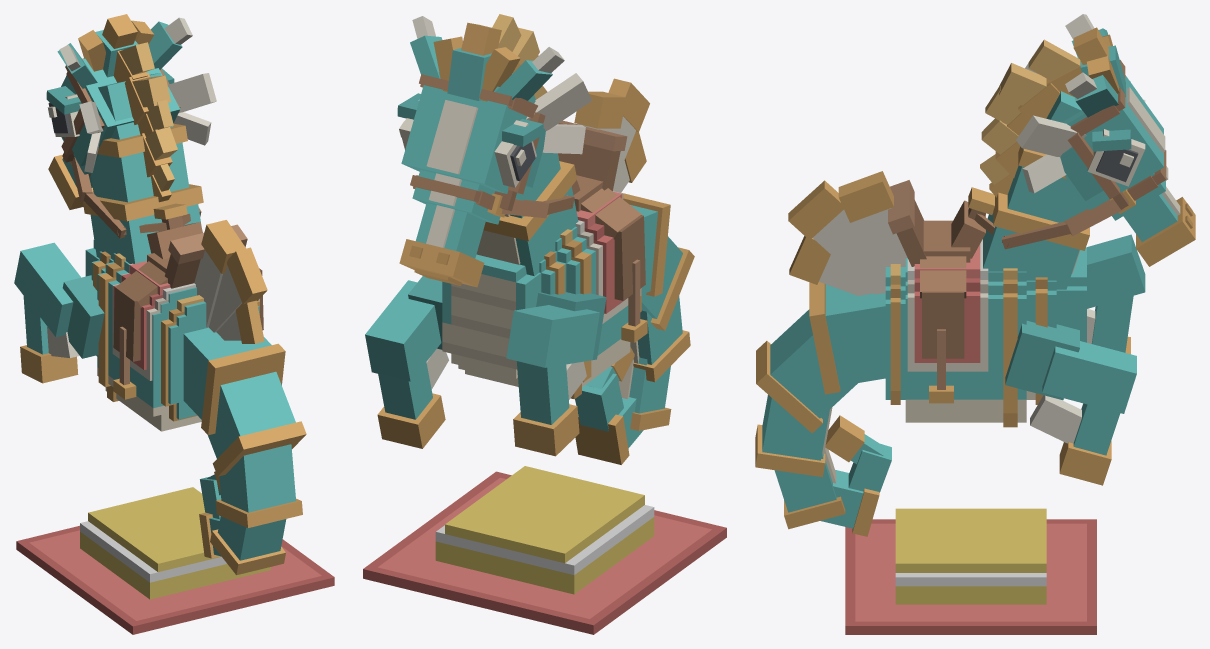
Rendered from SeahorseRocker3.glb.
3 views of the same model, side by side, from view 1: azimuth 30°, elevation 25°; view 2: azimuth 150°, elevation 25°; view 3: azimuth 270°, elevation 25° (orthographic). The views are drawn at different scales.
Parts seen in each view (by area): view 1: Stand, Body, Head, Neck, LegL, Fan, T2, T1, T3, T4, T5, T6; view 2: Stand, Head, Body, LegL, LegR, Neck, Fan, T3, T1, T4, T5, T2 (+2 smaller); view 3: Stand, Body, Head, Neck, LegR, Fan, T1, T2, LegL, T3, T4, T5 (+2 smaller).
Part boxes in pixels (x1,y1,x2,y2): Stand: (16, 487, 334, 634); Body: (85, 203, 263, 431); Head: (46, 14, 216, 209); Neck: (71, 73, 203, 263); LegL: (14, 242, 104, 383); Fan: (194, 220, 267, 343); T2: (208, 371, 306, 476); T1: (183, 327, 285, 435); T3: (215, 444, 302, 527); T4: (210, 516, 286, 575); T5: (199, 512, 221, 558); T6: (200, 476, 221, 519); Stand: (363, 466, 726, 634); Head: (397, 14, 591, 287); Body: (442, 120, 647, 399); LegL: (506, 292, 606, 456); LegR: (365, 276, 448, 448); Neck: (476, 55, 578, 275); Fan: (574, 78, 649, 192); T3: (630, 296, 690, 382); T1: (621, 193, 670, 296); T4: (618, 357, 671, 430); T5: (575, 397, 643, 464); T2: (641, 236, 694, 330); Stand: (845, 508, 1096, 634); Body: (885, 180, 1086, 427); Head: (999, 14, 1195, 266); Neck: (974, 86, 1124, 289); LegR: (1005, 320, 1136, 485); Fan: (788, 171, 907, 295); T1: (809, 282, 885, 394); T2: (756, 309, 857, 433); LegL: (1087, 234, 1145, 354); T3: (755, 395, 832, 477); T4: (774, 447, 845, 529); T5: (820, 470, 879, 536).
Bounding box in the file's own units: 10 × 24.08 × 17.5.
